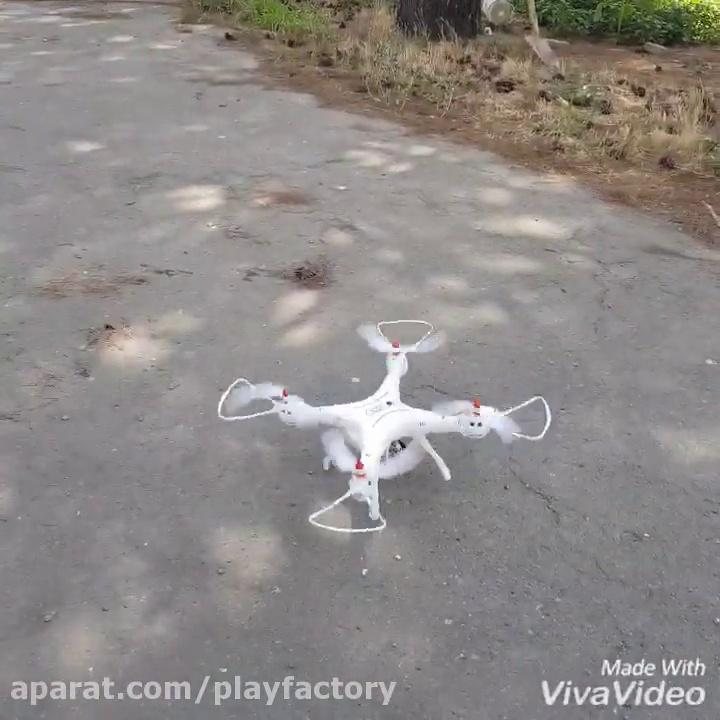drone: (214, 315, 555, 537)
